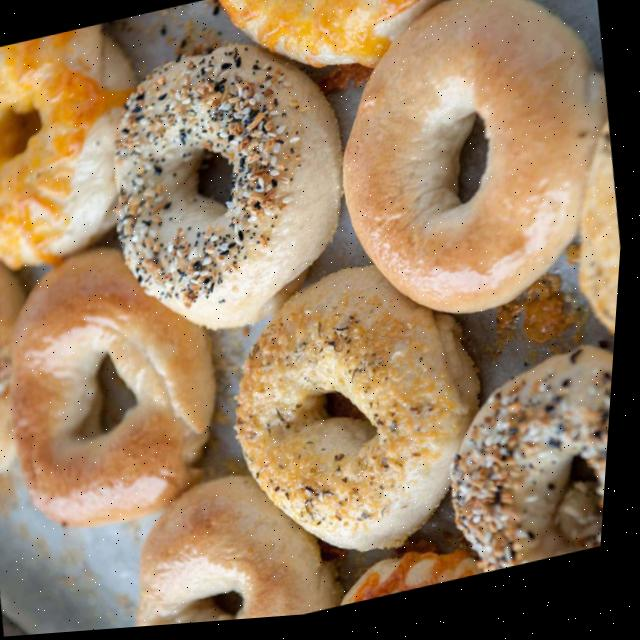Bagel: (346, 1, 610, 319), (242, 271, 485, 556), (117, 47, 346, 332), (16, 250, 222, 528), (459, 355, 619, 581), (0, 24, 135, 269), (145, 479, 352, 630), (219, 0, 449, 72)
